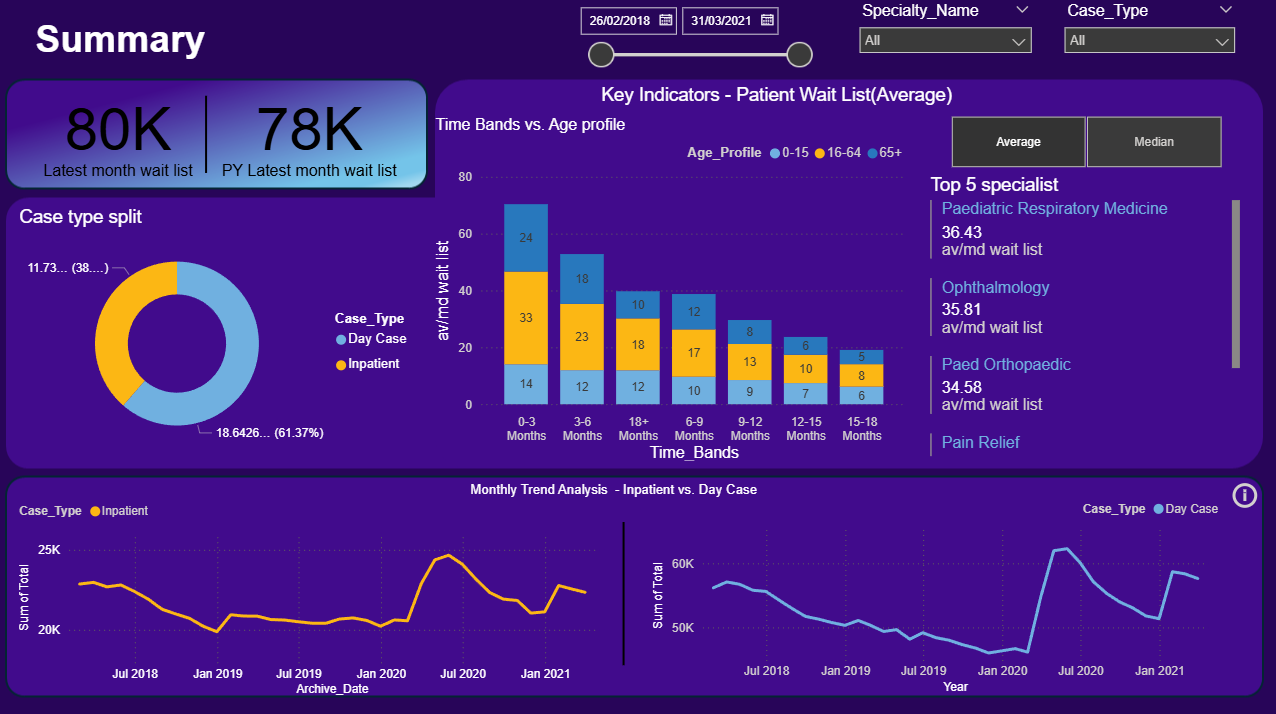

Layout of this report page (visuals, bound fields, positions):
{"tool":"powerbi","page":{"name":"Summary","canvas":[1280,720],"ordinal":0},"visuals":[{"type":"card","fields":{"Values":["AllData.Latest month wait list"]},"box":[16,80,208,112],"z":0},{"type":"card","fields":{"Values":["AllData.PY Latest month wait list"]},"box":[208,80,208,112],"z":1000},{"type":"slicer","fields":{"Values":["Table.calc_method"]},"box":[927.6,112.5,319.7,64.5],"z":2000},{"type":"donutChart","title":"Case type split","fields":{"Category":["AllData.Case_Type"],"Y":["AllData.av/md wait list"]},"box":[16.5,208.6,415.8,255.2],"z":3000},{"type":"columnChart","title":"Time Bands vs. Age profile","fields":{"Y":["AllData.av/md wait list"],"Category":["AllData.Time_Bands"],"Series":["AllData.Age_Profile"]},"box":[432.9,118.4,481.6,350],"z":4000},{"type":"multiRowCard","title":"Top 5 specialist","fields":{"Values":["AllData.av/md wait list","AllData.Specialty_Name"]},"box":[927.6,177,319.7,286.8],"z":5000},{"type":"card","fields":{"Values":["AllData.No Data Left"]},"box":[119.7,525,417.1,143.4],"z":5500},{"type":"lineChart","title":"Monthly Trend Analysis Inpatient vs. Day Casse","fields":{"Y":["Sum(AllData.Total)"],"Series":["AllData.Case_Type"],"Category":["AllData.Archive_Date"]},"box":[16.5,495.4,601,208.6],"z":6000},{"type":"card","fields":{"Values":["AllData.No Data right"]},"box":[669.7,509.2,417.1,143.4],"z":7000},{"type":"lineChart","fields":{"Y":["Sum(AllData.Total)"],"Category":["AllData.Archive_Date.Variation.Date Hierarchy.Year","AllData.Archive_Date.Variation.Date Hierarchy.Quarter","AllData.Archive_Date.Variation.Date Hierarchy.Month","AllData.Archive_Date.Variation.Date Hierarchy.Day"],"Series":["AllData.Case_Type"]},"box":[650,492.5,580,208.8],"z":8000},{"type":"slicer","fields":{"Values":["AllData.Archive_Date"]},"box":[569.5,0,252.5,74.1],"z":9000},{"type":"slicer","fields":{"Values":["AllData.Case_Type"]},"box":[1056.6,0,190.7,74.1],"z":10000},{"type":"slicer","fields":{"Values":["AllData.Specialty_Name"]},"box":[850.8,0,192.1,74.1],"z":11000},{"type":"textbox","box":[32,16,224,64],"z":12000},{"type":"shape","box":[137.5,98.9,141.2,77.2],"z":13000},{"type":"shape","box":[555,524.8,141.2,143.6],"z":14000},{"type":"textbox","box":[467.1,480.3,315.8,28.9],"z":15000},{"type":"card","fields":{"Values":["AllData.Dynamic Title"]},"box":[501.3,80.3,555.3,38.2],"z":16000},{"type":"actionButton","box":[1230,480,33.8,37.5],"z":16001}]}

Visuals, with their boxes in screenshot pixels (x1, y1, x2, y2), scaled from the page's 1280x720 canvas onto the 1276x714 screenshot:
card - AllData.Latest month wait list: box=[16, 79, 223, 190]
card - AllData.PY Latest month wait list: box=[207, 79, 415, 190]
slicer - Table.calc_method: box=[925, 112, 1243, 176]
"Case type split" donutChart: box=[16, 207, 431, 460]
"Time Bands vs. Age profile" columnChart: box=[432, 117, 912, 464]
"Top 5 specialist" multiRowCard: box=[925, 176, 1243, 460]
card - AllData.No Data Left: box=[119, 521, 535, 663]
"Monthly Trend Analysis Inpatient vs. Day Casse" lineChart: box=[16, 491, 616, 698]
card - AllData.No Data right: box=[668, 505, 1083, 647]
lineChart - Sum(AllData.Total) x AllData.Archive_Date.Variation.Date Hierarchy.Year: box=[648, 488, 1226, 695]
slicer - AllData.Archive_Date: box=[568, 0, 819, 73]
slicer - AllData.Case_Type: box=[1053, 0, 1243, 73]
slicer - AllData.Specialty_Name: box=[848, 0, 1040, 73]
textbox: box=[32, 16, 255, 79]
shape: box=[137, 98, 278, 175]
shape: box=[553, 520, 694, 663]
textbox: box=[466, 476, 780, 505]
card - AllData.Dynamic Title: box=[500, 80, 1053, 118]
actionButton: box=[1226, 476, 1260, 513]
